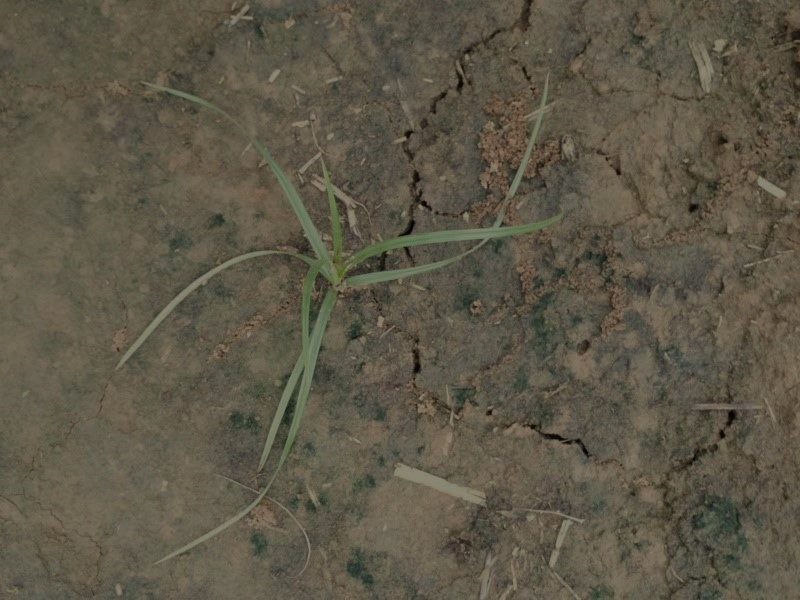sedge: (105, 67, 568, 566)
